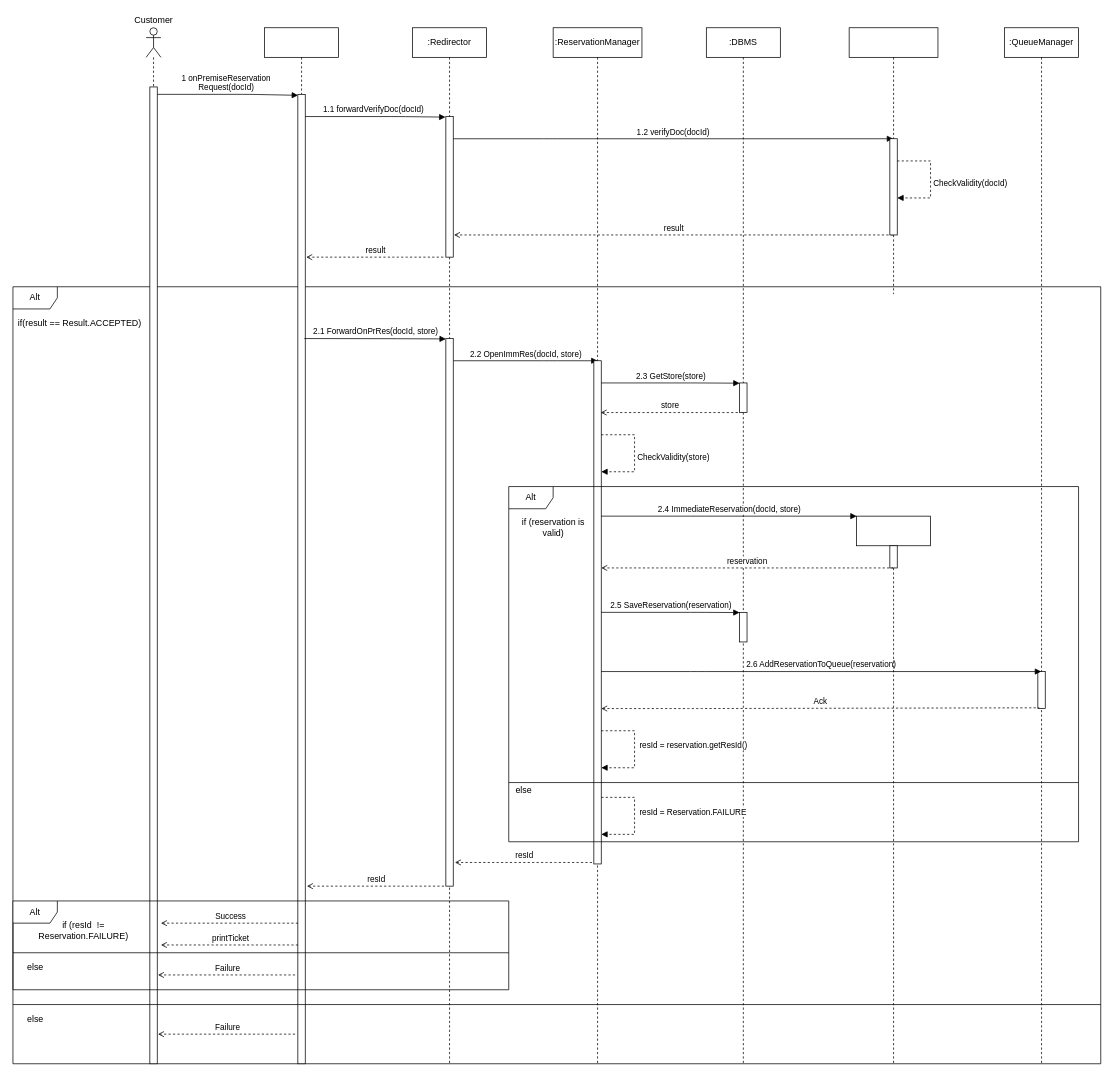
This 1114x1077 diagram has some shape labels left out. The box of each missing label's shape, as (x1, y1, x2, y2) in pixels:
:OnPremise Reservation: (856, 515, 931, 1064)
:Printer: (264, 27, 339, 1064)
:PrinterManager: (848, 27, 938, 294)
